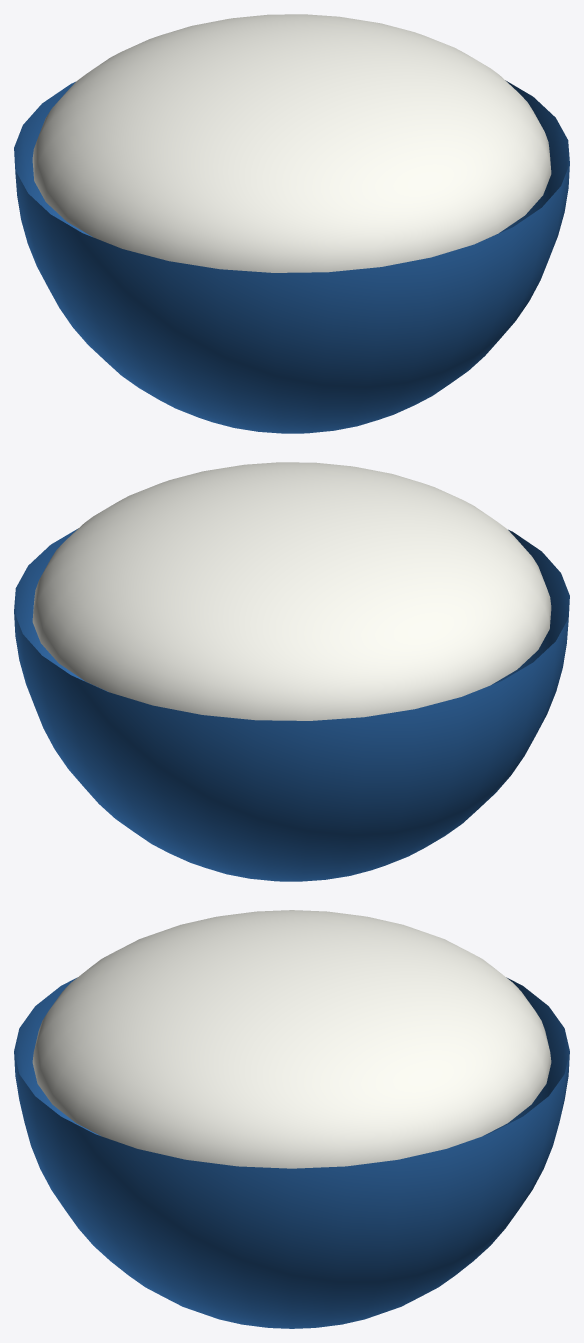
File: rice_bowl.glb
The picture shows the model from 3 angles, top to bottom: view 1: azimuth 30°, elevation 25°; view 2: azimuth 150°, elevation 25°; view 3: azimuth 270°, elevation 25°; orthographic projection.
Visible parts, largest first — view 1: RiceBowl; view 2: RiceBowl; view 3: RiceBowl.
Boxes of the visible parts, <box> form: RiceBowl: <box>14,14,569,433</box>; RiceBowl: <box>14,462,569,881</box>; RiceBowl: <box>14,910,569,1328</box>.
Size of the model in its own units: 0.9 by 0.619 by 0.9.
